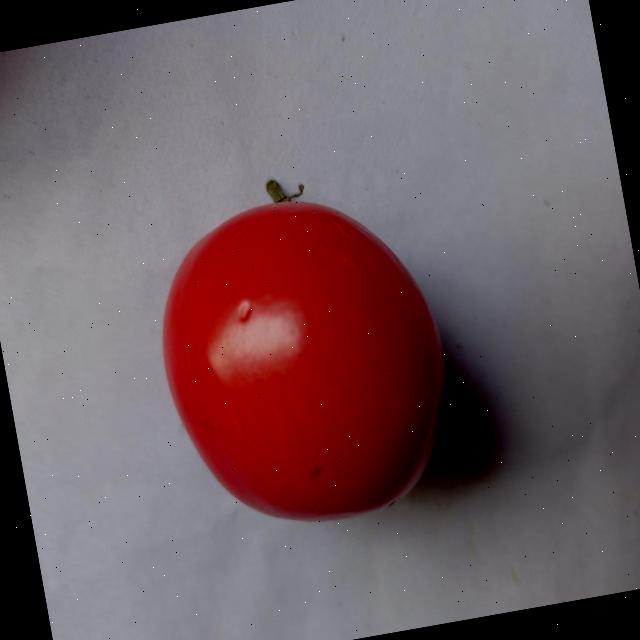Tomato: (136, 155, 470, 544)
